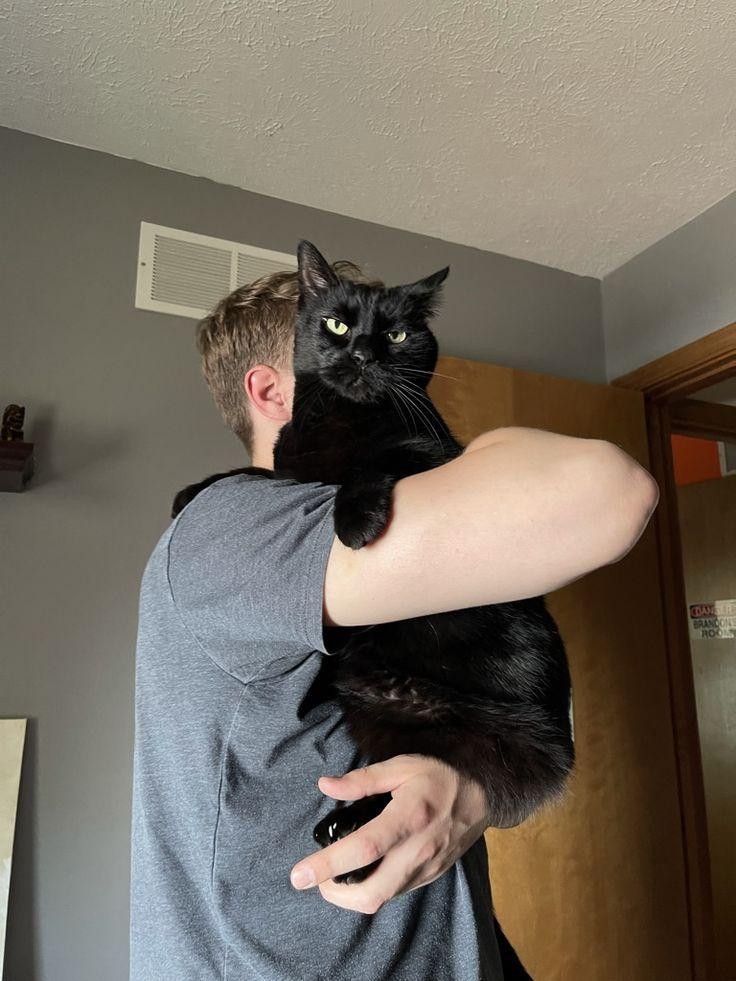kedo: (280, 232, 464, 549)
